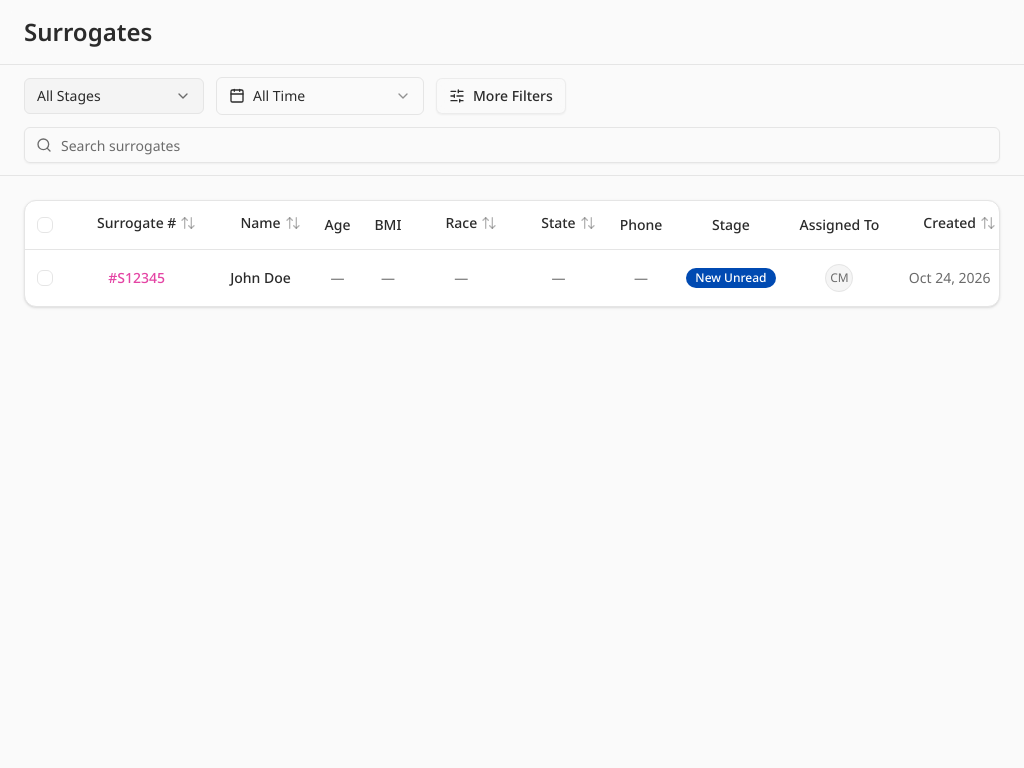
Test: SurrogatesPage Accessibility › renders assign dropdown with aria-label when items selected
# Select one item to show floating bar
What coordinates should you click on to do the following:
click the checkbox named "Select John Doe"
I would click on:
 (45, 278)
Its box is [37, 270, 53, 286].
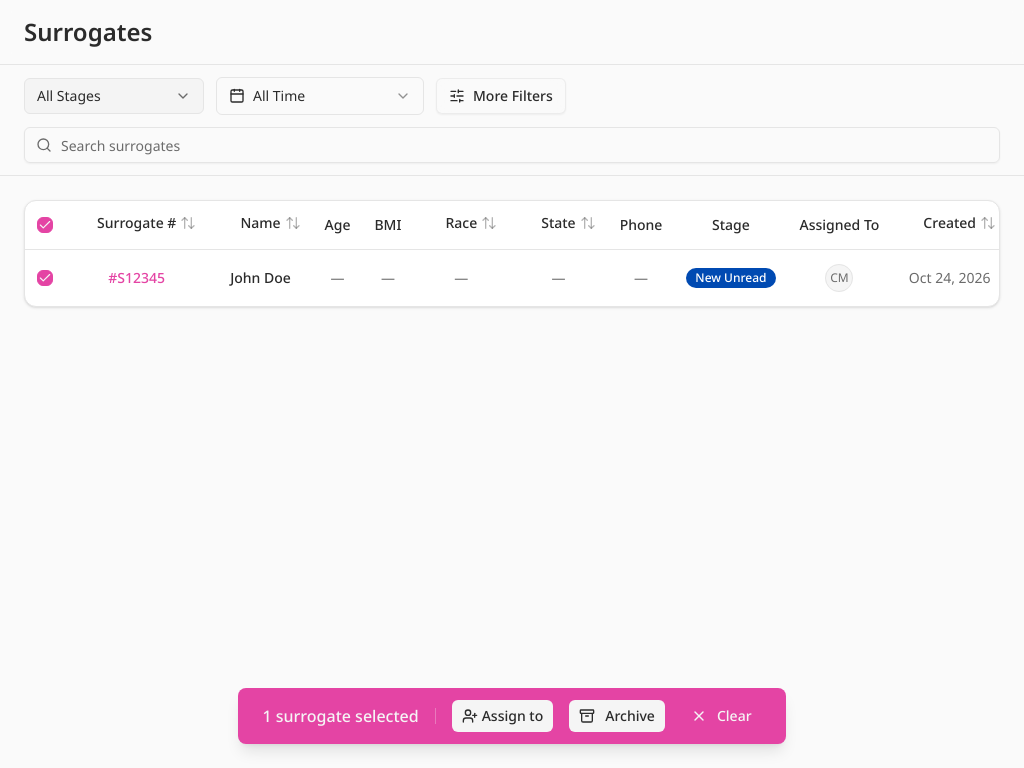
Expected: the text "1 surrogate selected" is shown, [262, 704, 419, 728]
Expected: the button with aria-label "Assign to user" is shown, [452, 700, 553, 732]
